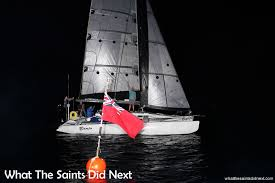buoy: (84, 156, 108, 176)
